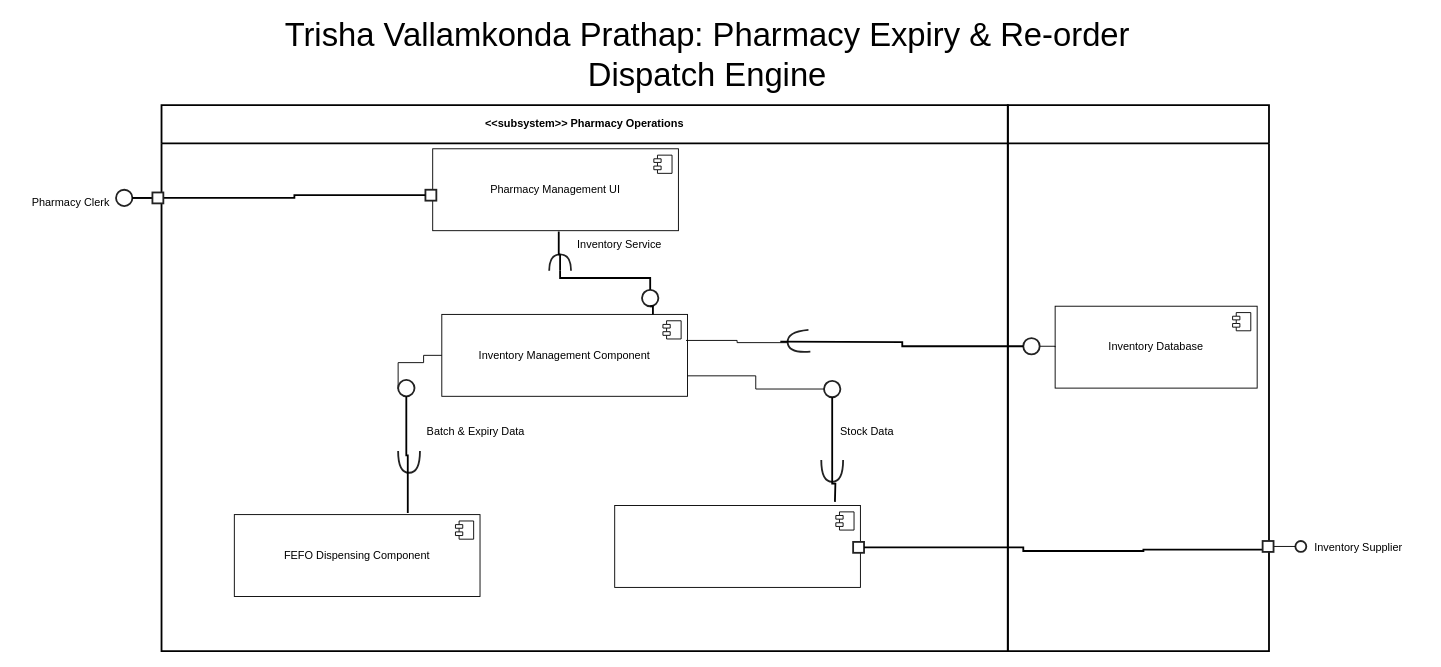
Some shapes in this 1441 by 667 pixel diagram are drawn without their labels. The shapes that lost their labels are listed below. From the top down, each one's box as (x1, y1, x2, y2) in pixels, then its label:
(1006, 104, 1269, 652): <<subsystem>> Inventory Data
(614, 505, 860, 587): Stock Monitoring & Re-Order Component
